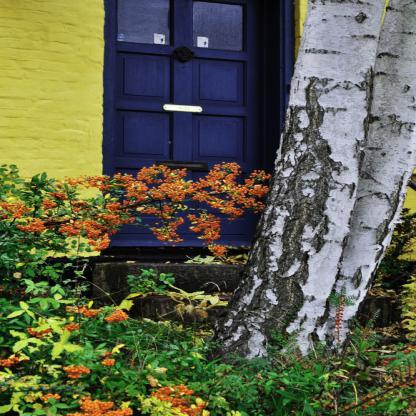door: (115, 0, 274, 258)
